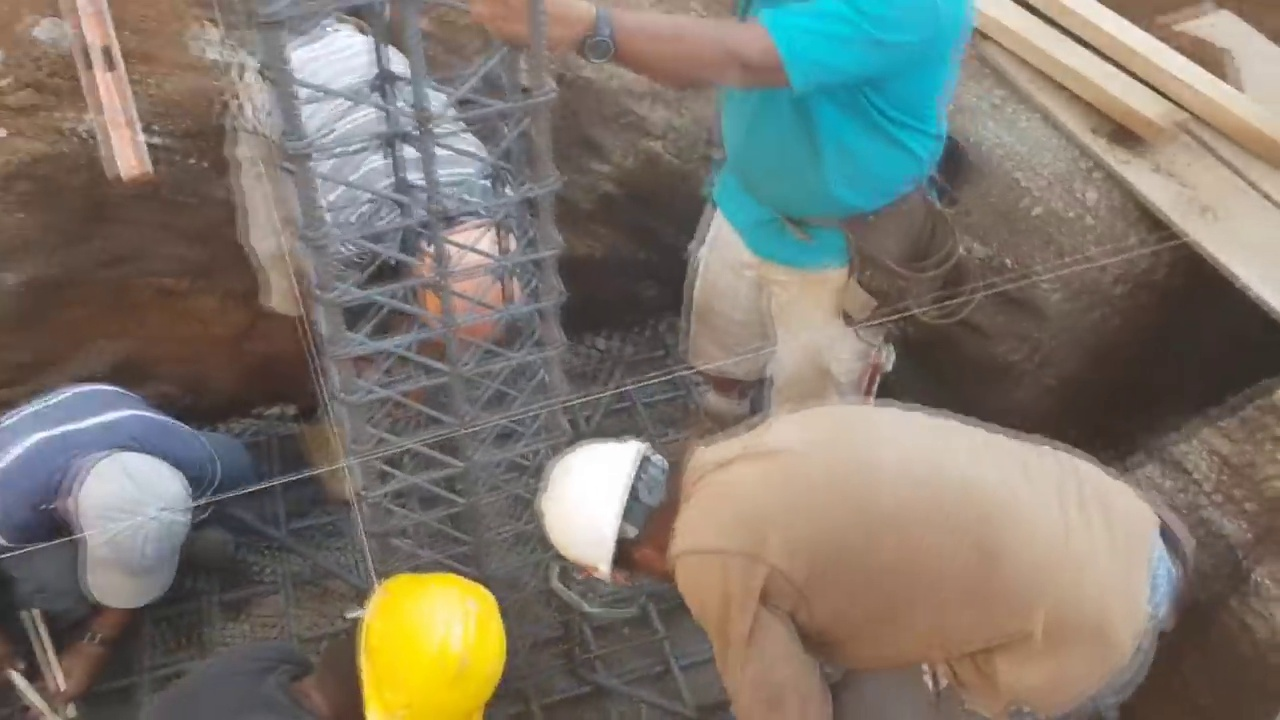helmet: (353, 578, 508, 717), (546, 434, 664, 595), (401, 212, 526, 353)
helmet-off: (62, 446, 199, 610)
helmet-on: (279, 568, 513, 719), (546, 426, 708, 598), (379, 207, 529, 348)
person: (543, 404, 1177, 714), (508, 0, 984, 401), (228, 12, 543, 512), (0, 358, 262, 720), (147, 552, 514, 718)
